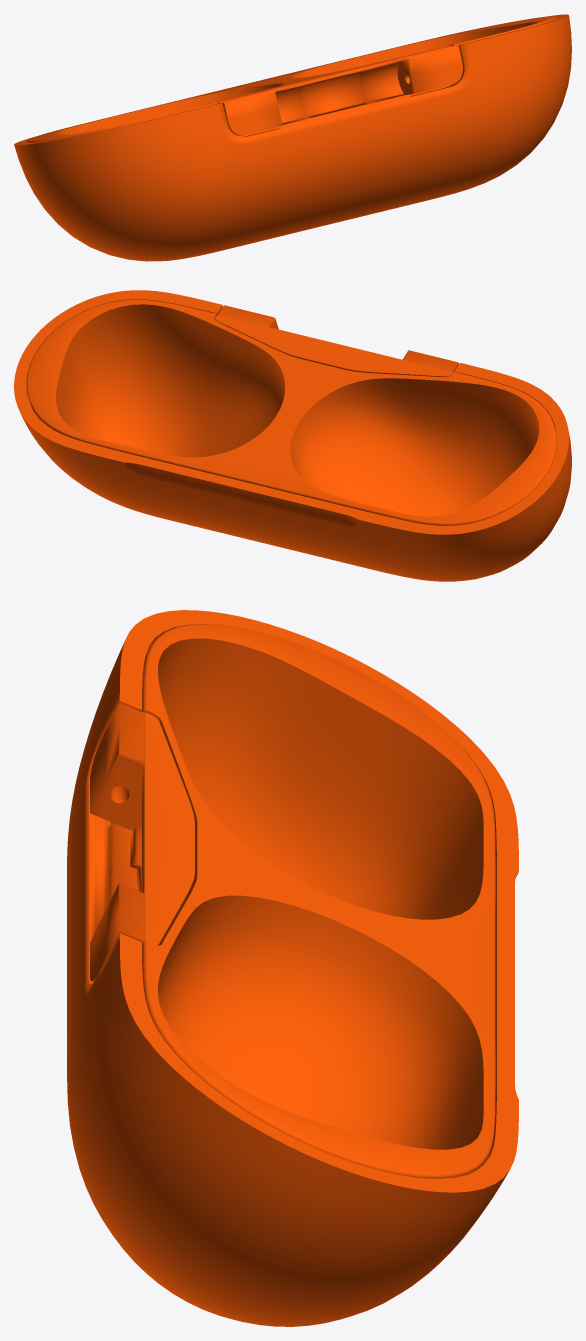
The model's file is upper_case_resized_proper_1.obj.
3 renders of one model, top to bottom at view 1: azimuth 30°, elevation 25°; view 2: azimuth 150°, elevation 25°; view 3: azimuth 270°, elevation 25°, orthographic. The views are drawn at different scales.
Size of the model in its own units: 0.1512 by 0.0475 by 0.0558.
